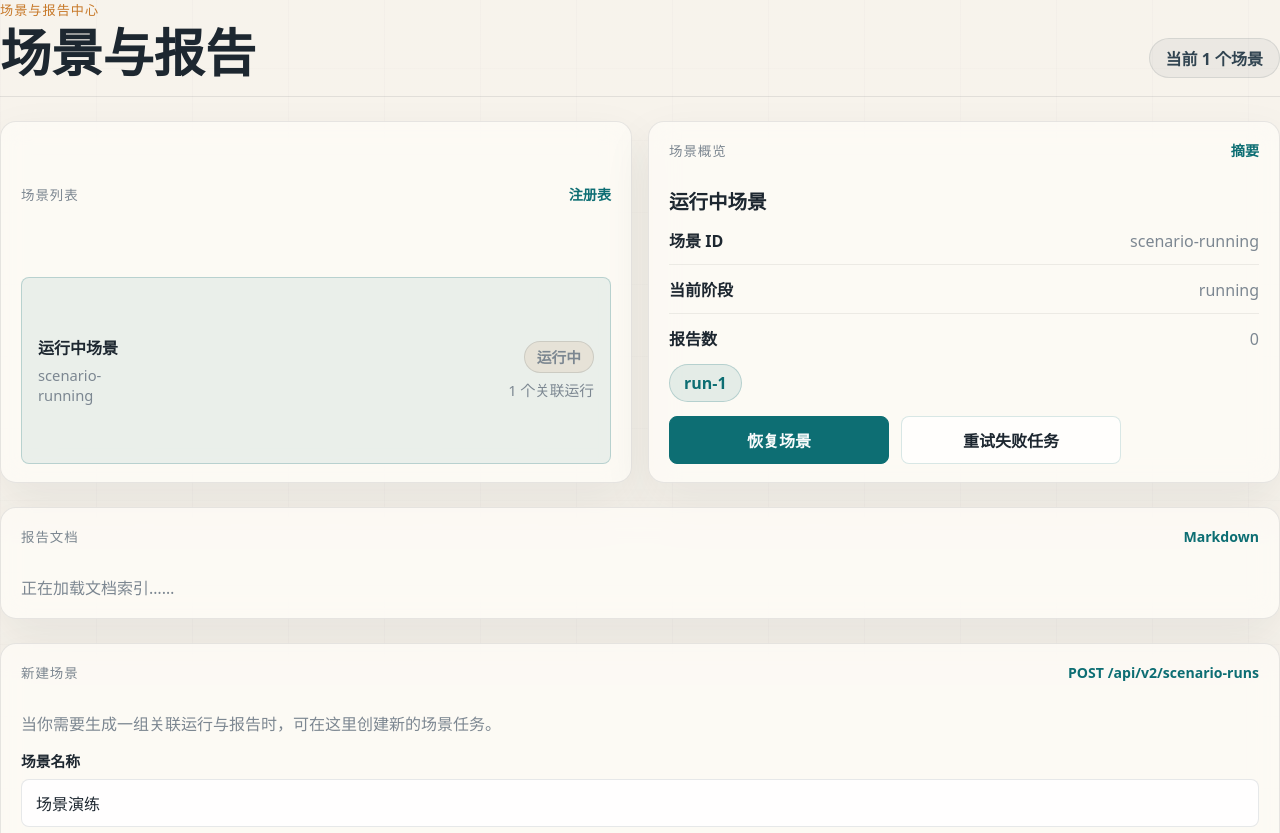
Scenario: pending 时只在被点击的恢复按钮显示提交中
Click the button "恢复场景".
click(779, 440)  # box [669,416,889,464]
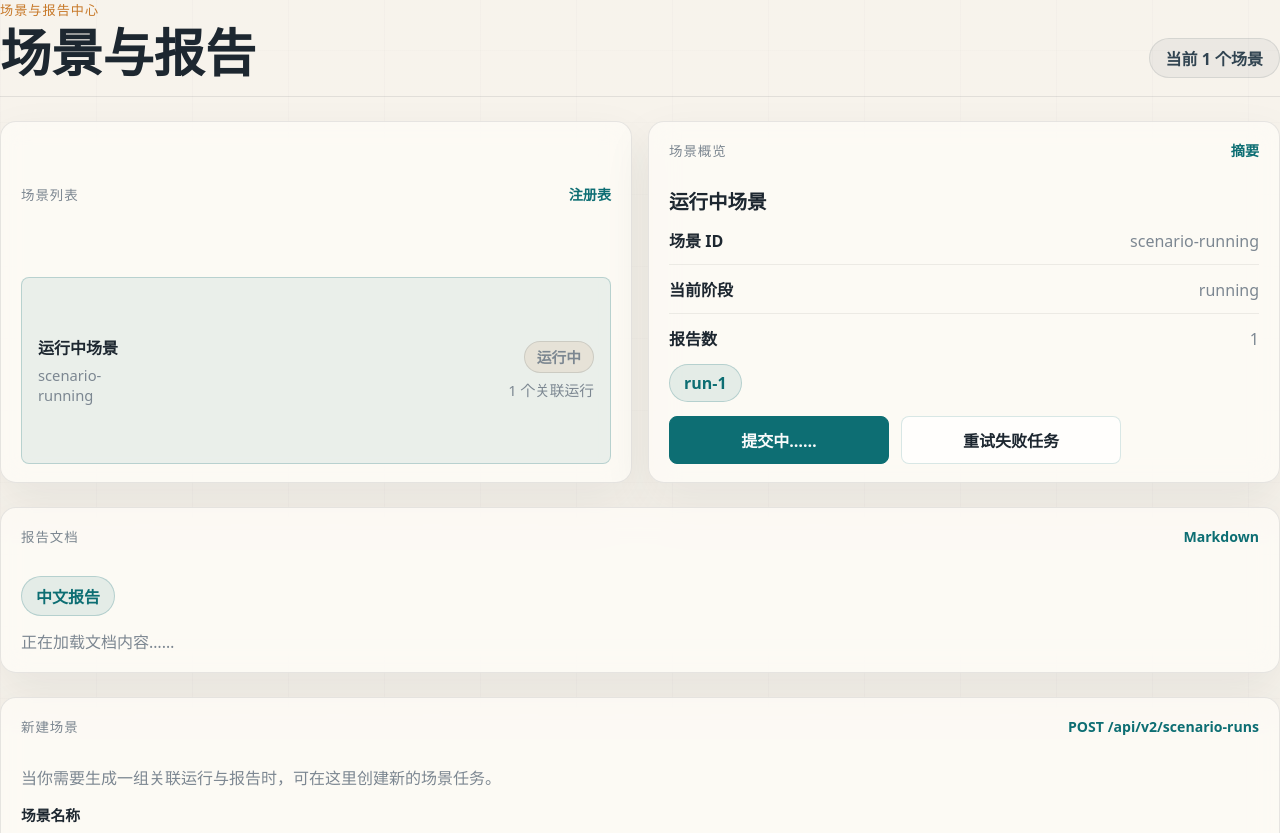
Check: the button "重试失败任务" is disabled, box [901,416,1121,464]
Check: the button "提交中……" is disabled, box [669,416,889,464]
